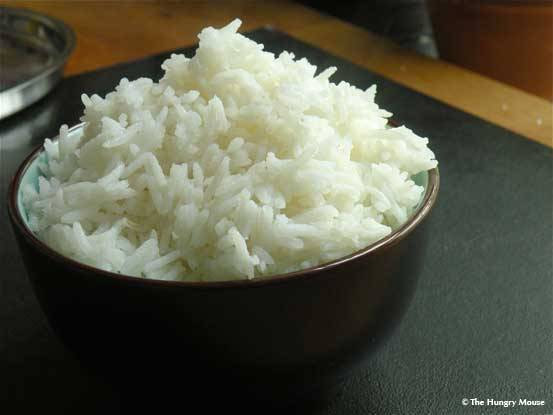rice: (12, 21, 440, 278)
